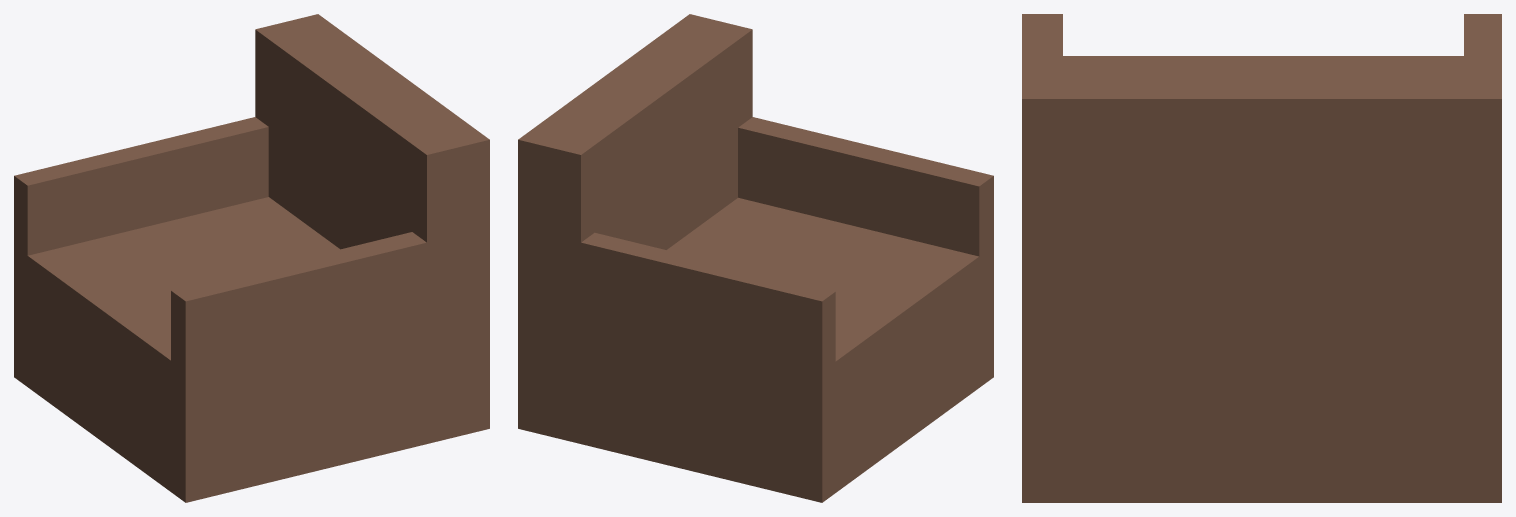
Rendered from SofaChair.fbx.
The picture shows the model from 3 angles, left to right: view 1: azimuth 30°, elevation 25°; view 2: azimuth 150°, elevation 25°; view 3: azimuth 270°, elevation 25°; orthographic projection. The views are drawn at different scales.
Parts seen in each view (by area): view 1: Sofa_Chair; view 2: Sofa_Chair; view 3: Sofa_Chair.
Part boxes in pixels (x1,y1,x2,y2): Sofa_Chair: (14, 14, 489, 502); Sofa_Chair: (518, 14, 993, 502); Sofa_Chair: (1022, 14, 1501, 502).
Size of the model in its own units: 350 by 318 by 342.
